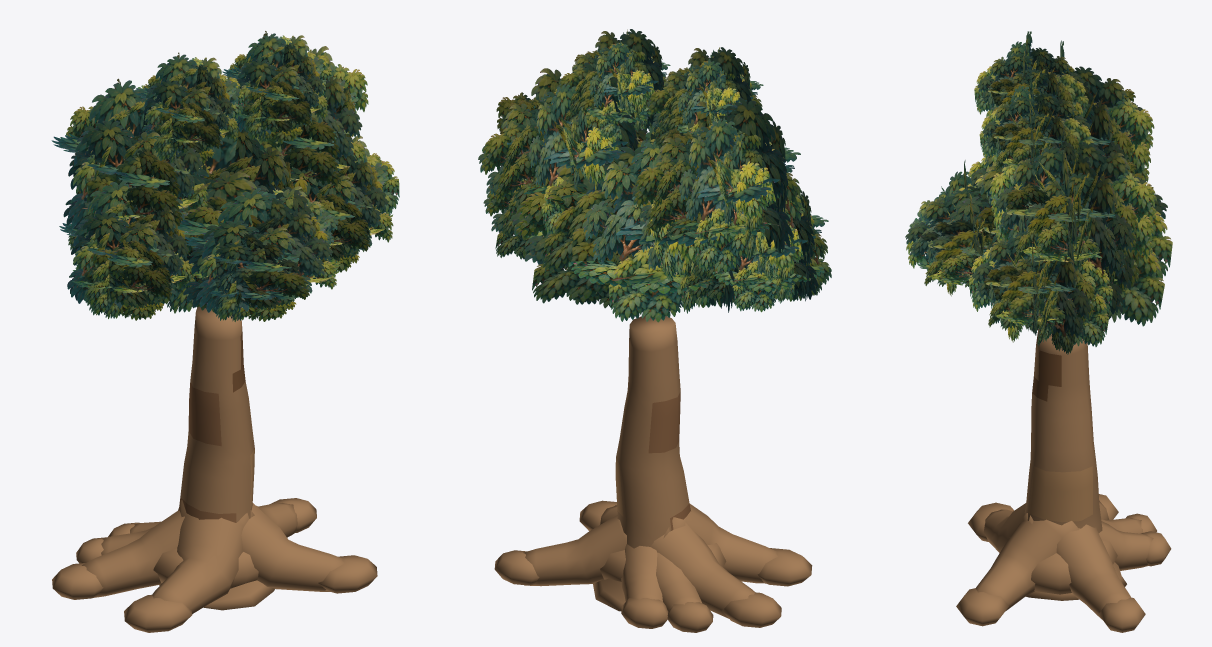
File: TREE_EUCALYPTUS_001_v013_LOD_CLOSE.glb
3 views of the same model, side by side, from view 1: azimuth 30°, elevation 25°; view 2: azimuth 150°, elevation 25°; view 3: azimuth 270°, elevation 25° (orthographic). The views are drawn at different scales.
Visible parts, largest first — view 1: TREE_EUCALYPTUS_001_CLOSE_AUTHORED_FOLIAGE_ISLANDS, TREE_EUCALYPTUS_001_CLOSE_MAIN_TRUNK, TREE_EUCALYPTUS_001_CLOSE_ROOT_FRONT_LEFT, TREE_EUCALYPTUS_001_CLOSE_ROOT_FRONT_RIGHT, TREE_EUCALYPTUS_001_CLOSE_ROOT_LONG_LEFT, TREE_EUCALYPTUS_001_CLOSE_ROOT_TOE_FRONT_LEFT, TREE_EUCALYPTUS_001_CLOSE_ROOT_TOE_FRONT_RIGHT, TREE_EUCALYPTUS_001_CLOSE_ROOT_TOE_LONG_LEFT, TREE_EUCALYPTUS_001_CLOSE_SCULPTED_ROOT_COLLAR, TREE_EUCALYPTUS_001_CLOSE_BROAD_PLANTED_ROOT_MOUND, TREE_EUCALYPTUS_001_CLOSE_ROOT_RIGHT_SIDE, TREE_EUCALYPTUS_001_CLOSE_ROOT_TOE_RIGHT_SIDE; view 2: TREE_EUCALYPTUS_001_CLOSE_AUTHORED_FOLIAGE_ISLANDS, TREE_EUCALYPTUS_001_CLOSE_MAIN_TRUNK, TREE_EUCALYPTUS_001_CLOSE_ROOT_RIGHT_SIDE, TREE_EUCALYPTUS_001_CLOSE_ROOT_LONG_LEFT, TREE_EUCALYPTUS_001_CLOSE_ROOT_FRONT_LEFT, TREE_EUCALYPTUS_001_CLOSE_ROOT_REAR_SHORT, TREE_EUCALYPTUS_001_CLOSE_ROOT_TOE_LONG_LEFT, TREE_EUCALYPTUS_001_CLOSE_ROOT_TOE_FRONT_LEFT, TREE_EUCALYPTUS_001_CLOSE_ROOT_LEFT_REAR, TREE_EUCALYPTUS_001_CLOSE_ROOT_TOE_REAR_SHORT, TREE_EUCALYPTUS_001_CLOSE_ROOT_TOE_LEFT_REAR, TREE_EUCALYPTUS_001_CLOSE_ROOT_TOE_RIGHT_SIDE (+3 smaller); view 3: TREE_EUCALYPTUS_001_CLOSE_AUTHORED_FOLIAGE_ISLANDS, TREE_EUCALYPTUS_001_CLOSE_MAIN_TRUNK, TREE_EUCALYPTUS_001_CLOSE_ROOT_FRONT_RIGHT, TREE_EUCALYPTUS_001_CLOSE_ROOT_RIGHT_SIDE, TREE_EUCALYPTUS_001_CLOSE_ROOT_REAR_SHORT, TREE_EUCALYPTUS_001_CLOSE_BROAD_PLANTED_ROOT_MOUND, TREE_EUCALYPTUS_001_CLOSE_ROOT_TOE_FRONT_RIGHT, TREE_EUCALYPTUS_001_CLOSE_ROOT_FRONT_LEFT, TREE_EUCALYPTUS_001_CLOSE_ROOT_TOE_RIGHT_SIDE, TREE_EUCALYPTUS_001_CLOSE_ROOT_TOE_FRONT_LEFT, TREE_EUCALYPTUS_001_CLOSE_ROOT_TOE_REAR_SHORT, TREE_EUCALYPTUS_001_CLOSE_SCULPTED_ROOT_COLLAR (+1 smaller).
Boxes of the visible parts, x1,y1,x2,y2 form: TREE_EUCALYPTUS_001_CLOSE_AUTHORED_FOLIAGE_ISLANDS: (51, 31, 399, 321); TREE_EUCALYPTUS_001_CLOSE_MAIN_TRUNK: (179, 306, 254, 522); TREE_EUCALYPTUS_001_CLOSE_ROOT_FRONT_LEFT: (152, 500, 254, 614); TREE_EUCALYPTUS_001_CLOSE_ROOT_FRONT_RIGHT: (241, 503, 344, 591); TREE_EUCALYPTUS_001_CLOSE_ROOT_LONG_LEFT: (81, 510, 184, 597); TREE_EUCALYPTUS_001_CLOSE_ROOT_TOE_FRONT_LEFT: (124, 594, 192, 632); TREE_EUCALYPTUS_001_CLOSE_ROOT_TOE_FRONT_RIGHT: (318, 555, 377, 593); TREE_EUCALYPTUS_001_CLOSE_ROOT_TOE_LONG_LEFT: (52, 563, 103, 599); TREE_EUCALYPTUS_001_CLOSE_SCULPTED_ROOT_COLLAR: (159, 580, 274, 610); TREE_EUCALYPTUS_001_CLOSE_BROAD_PLANTED_ROOT_MOUND: (153, 548, 258, 588); TREE_EUCALYPTUS_001_CLOSE_ROOT_RIGHT_SIDE: (256, 503, 297, 537); TREE_EUCALYPTUS_001_CLOSE_ROOT_TOE_RIGHT_SIDE: (269, 498, 316, 532); TREE_EUCALYPTUS_001_CLOSE_AUTHORED_FOLIAGE_ISLANDS: (478, 29, 831, 322); TREE_EUCALYPTUS_001_CLOSE_MAIN_TRUNK: (615, 315, 690, 548); TREE_EUCALYPTUS_001_CLOSE_ROOT_RIGHT_SIDE: (523, 515, 626, 586); TREE_EUCALYPTUS_001_CLOSE_ROOT_LONG_LEFT: (650, 522, 754, 618); TREE_EUCALYPTUS_001_CLOSE_ROOT_FRONT_LEFT: (663, 504, 777, 583); TREE_EUCALYPTUS_001_CLOSE_ROOT_REAR_SHORT: (621, 544, 662, 601); TREE_EUCALYPTUS_001_CLOSE_ROOT_TOE_LONG_LEFT: (722, 592, 781, 627); TREE_EUCALYPTUS_001_CLOSE_ROOT_TOE_FRONT_LEFT: (757, 548, 812, 586); TREE_EUCALYPTUS_001_CLOSE_ROOT_LEFT_REAR: (656, 552, 701, 611); TREE_EUCALYPTUS_001_CLOSE_ROOT_TOE_REAR_SHORT: (621, 598, 667, 628); TREE_EUCALYPTUS_001_CLOSE_ROOT_TOE_LEFT_REAR: (667, 602, 713, 632); TREE_EUCALYPTUS_001_CLOSE_ROOT_TOE_RIGHT_SIDE: (494, 550, 539, 585); TREE_EUCALYPTUS_001_CLOSE_AUTHORED_FOLIAGE_ISLANDS: (905, 31, 1172, 354); TREE_EUCALYPTUS_001_CLOSE_MAIN_TRUNK: (1024, 329, 1102, 532); TREE_EUCALYPTUS_001_CLOSE_ROOT_FRONT_RIGHT: (975, 519, 1079, 611); TREE_EUCALYPTUS_001_CLOSE_ROOT_RIGHT_SIDE: (1056, 524, 1130, 619); TREE_EUCALYPTUS_001_CLOSE_ROOT_REAR_SHORT: (1099, 521, 1153, 570); TREE_EUCALYPTUS_001_CLOSE_BROAD_PLANTED_ROOT_MOUND: (1031, 540, 1117, 594); TREE_EUCALYPTUS_001_CLOSE_ROOT_TOE_FRONT_RIGHT: (956, 588, 1008, 626); TREE_EUCALYPTUS_001_CLOSE_ROOT_FRONT_LEFT: (983, 503, 1033, 552); TREE_EUCALYPTUS_001_CLOSE_ROOT_TOE_RIGHT_SIDE: (1099, 597, 1145, 632); TREE_EUCALYPTUS_001_CLOSE_ROOT_TOE_FRONT_LEFT: (968, 502, 1013, 541); TREE_EUCALYPTUS_001_CLOSE_ROOT_TOE_REAR_SHORT: (1141, 531, 1171, 566); TREE_EUCALYPTUS_001_CLOSE_SCULPTED_ROOT_COLLAR: (1026, 562, 1126, 600).
Bounding box in the file's own units: 4.65 × 6.87 × 3.68.
5 materials, 1 textured.
